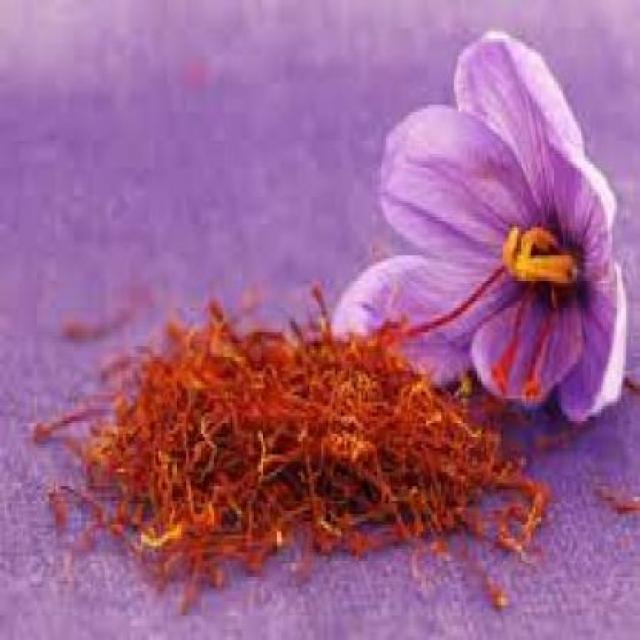saffron open: (334, 31, 626, 421)
